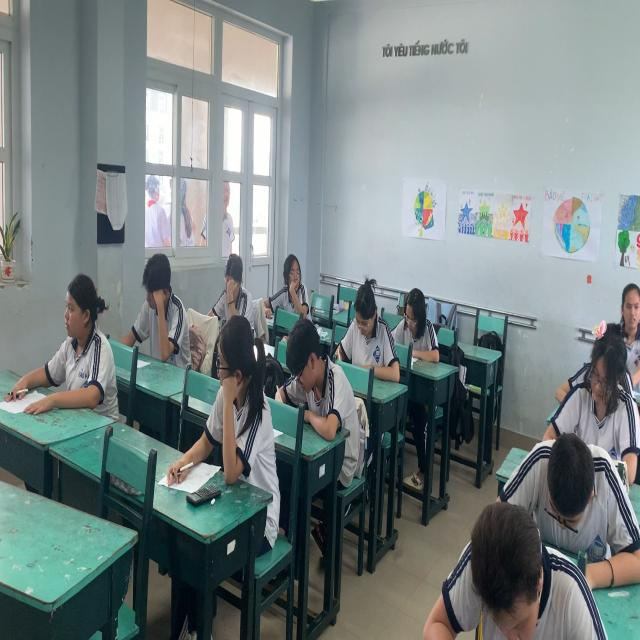cheating: (188, 294, 298, 532), (262, 210, 344, 350)
not_cheating: (412, 472, 619, 640), (26, 242, 150, 464), (519, 412, 640, 615), (272, 283, 371, 483), (116, 217, 208, 399), (563, 320, 640, 496), (336, 264, 422, 418), (384, 246, 470, 395), (196, 212, 282, 356), (599, 258, 640, 438)
